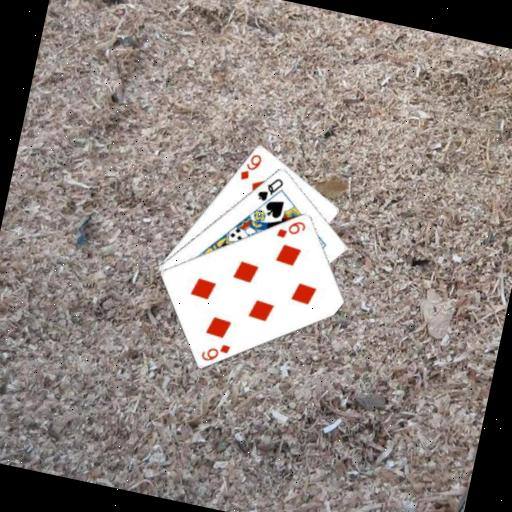6D: (197, 336, 233, 367), (272, 213, 308, 243)
9D: (235, 148, 264, 184)
QS: (253, 171, 285, 205)
